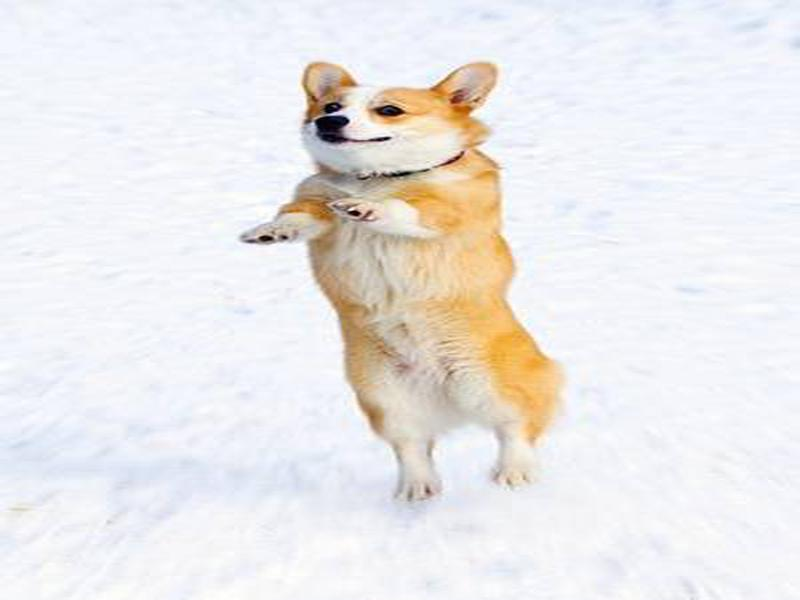corgi: (302, 61, 502, 177)
